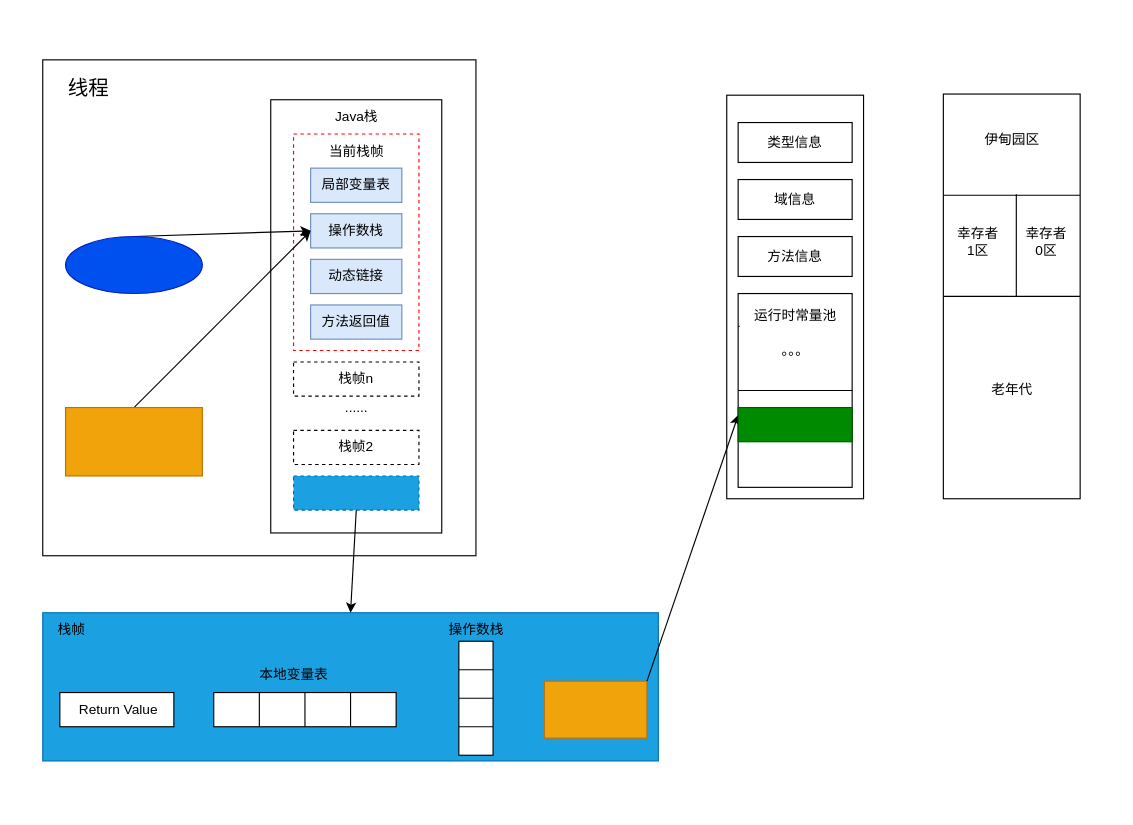
The diagram is 1133 pixels wide and 825 high, and some of its shapes have lost their labels. Here are the shapes that lost their labels. From the top down, the centre of each, then its label:
(133,264): 执行引擎
(133,441): PC寄存器
(794,424): 方法引用
(355,492): 栈帧1
(595,709): 当前类常量 池的引用
